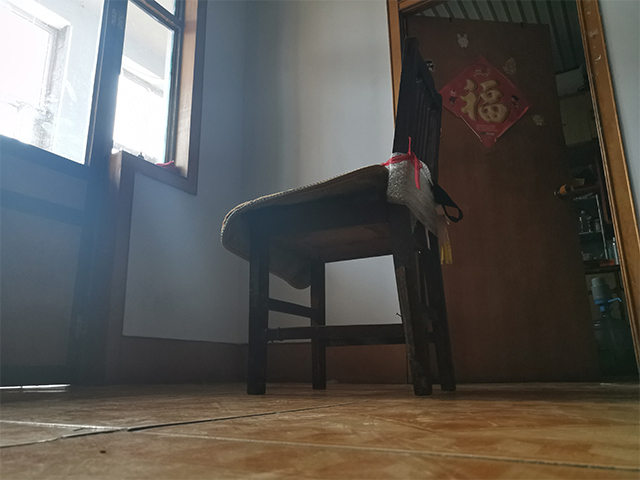stool: (240, 35, 457, 397)
